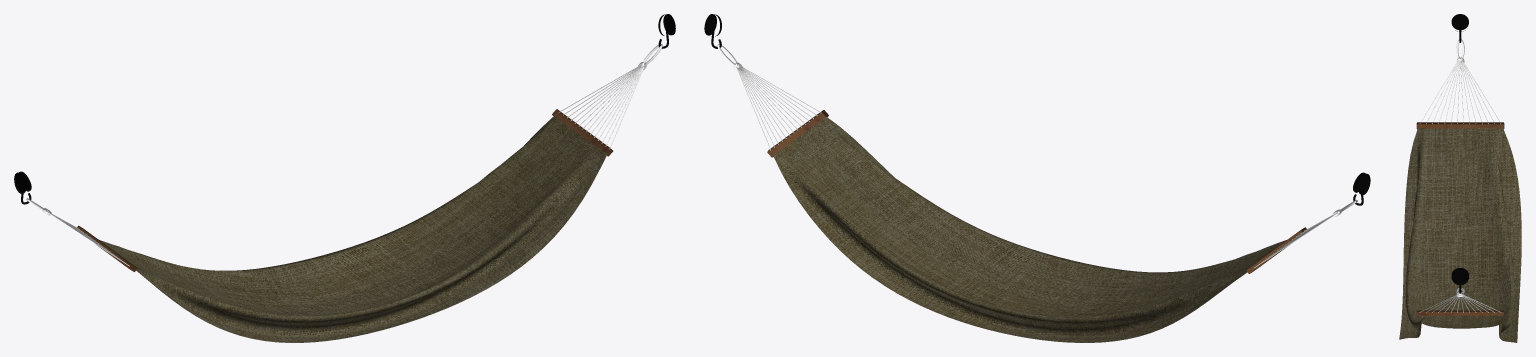
Rendered from HAMACA.glb.
The picture shows the model from 3 angles, left to right: view 1: azimuth 30°, elevation 25°; view 2: azimuth 150°, elevation 25°; view 3: azimuth 270°, elevation 25°; orthographic projection. The views are drawn at different scales.
Parts seen in each view (by area): view 1: 01g5 rede; view 2: 01g5 rede; view 3: 01g5 rede.
Part boxes in pixels (x1,y1,x2,y2): 01g5 rede: (14,14,675,342); 01g5 rede: (704,14,1370,342); 01g5 rede: (1399,14,1521,342).
Bounding box in the file's own units: 3.47 × 1.09 × 0.7032.
4 materials, 2 textured.
